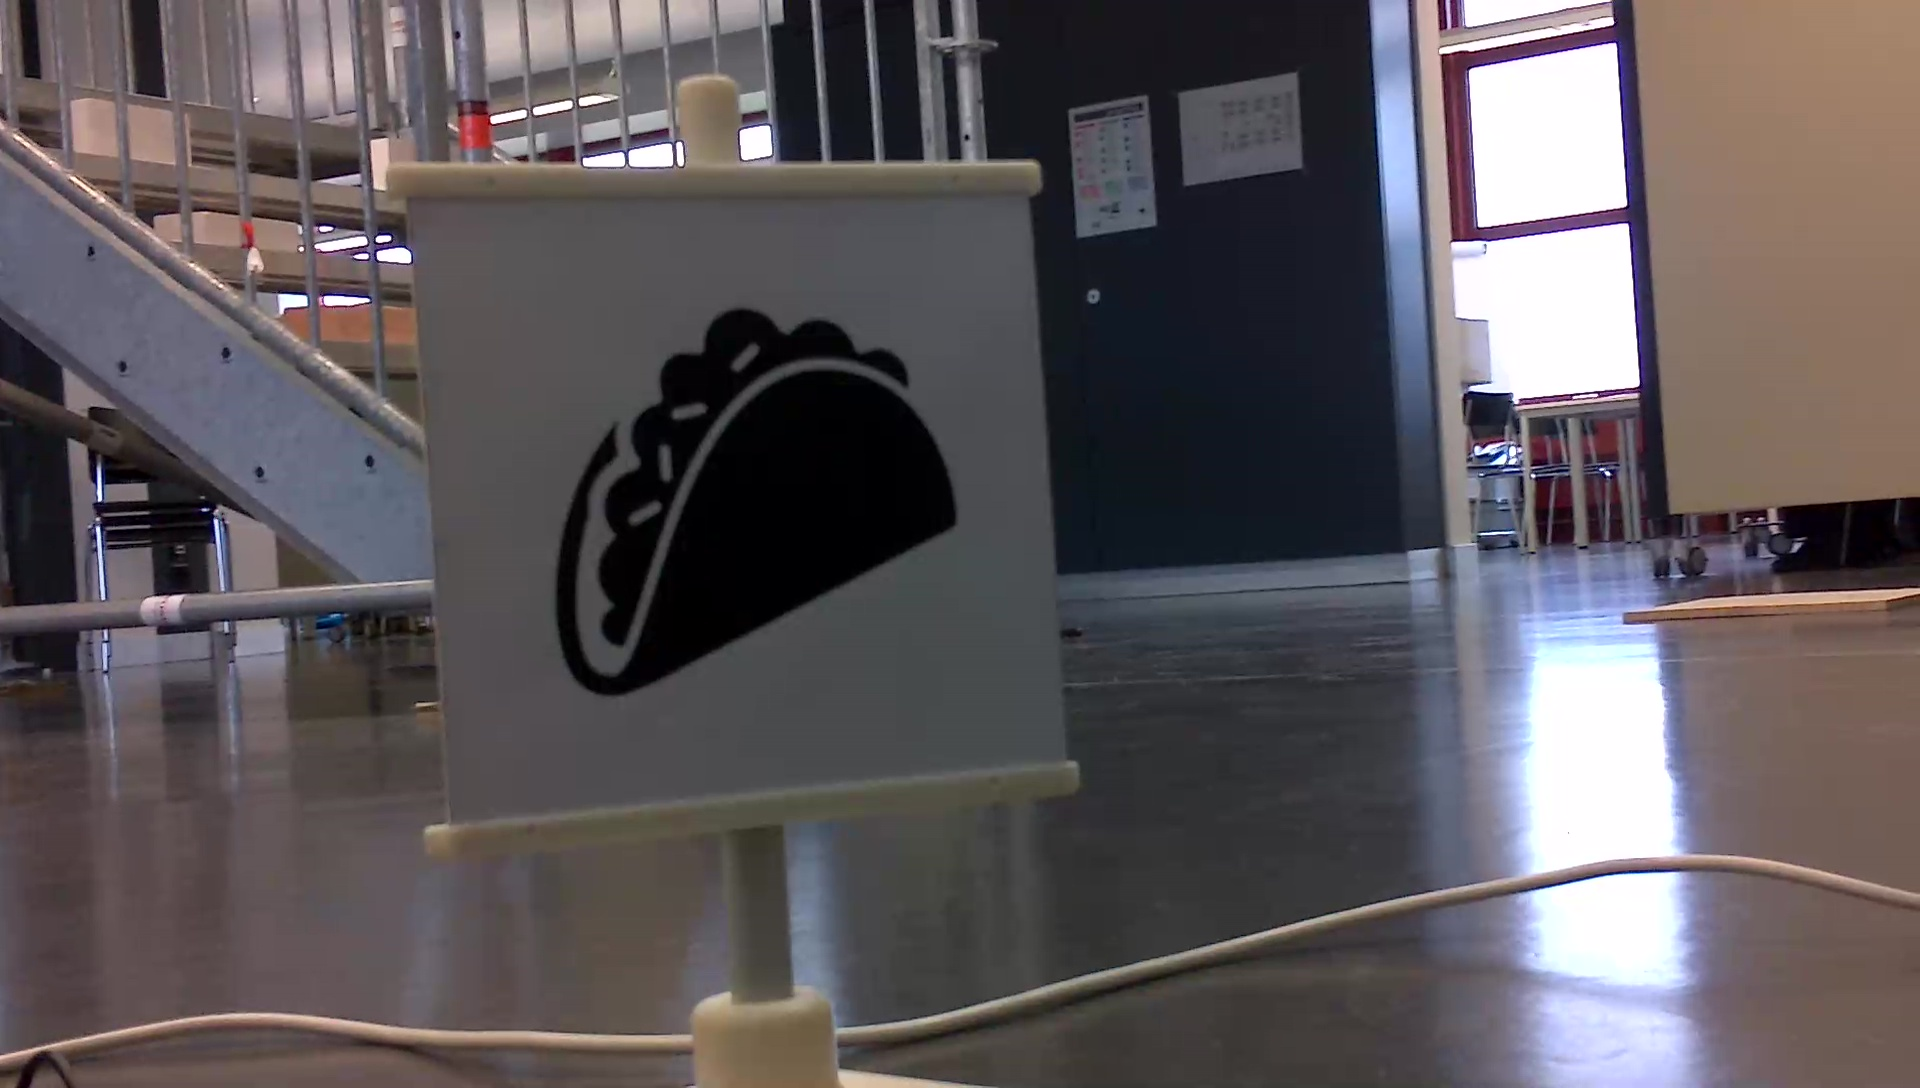taco: (535, 293, 968, 711)
